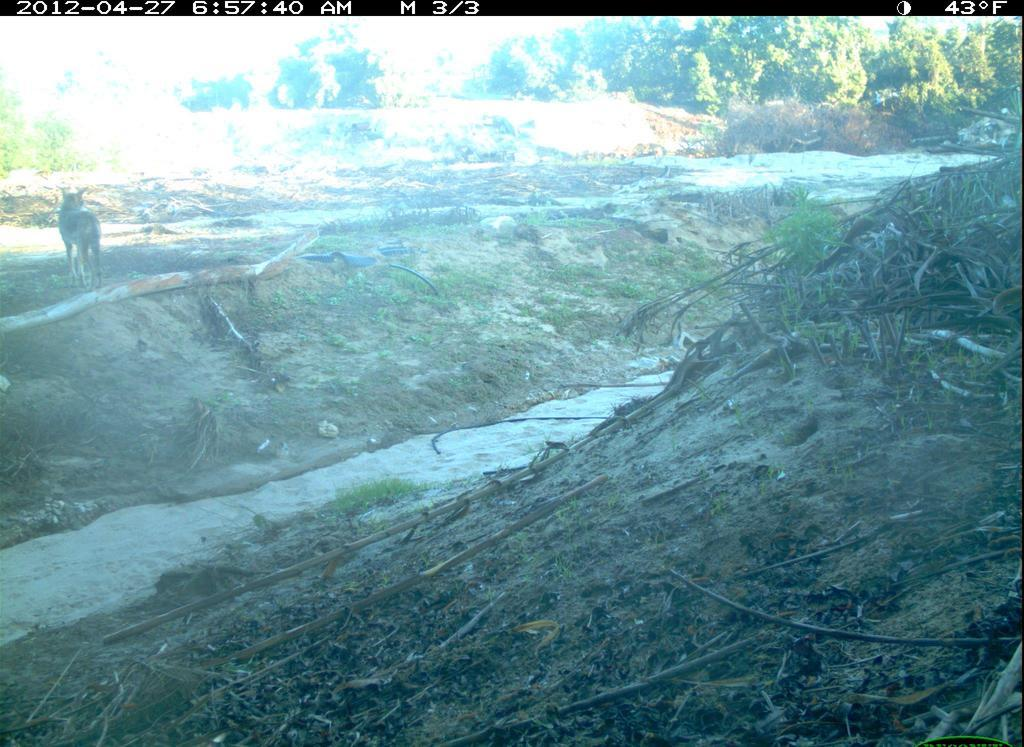coyote: (53, 182, 113, 297)
